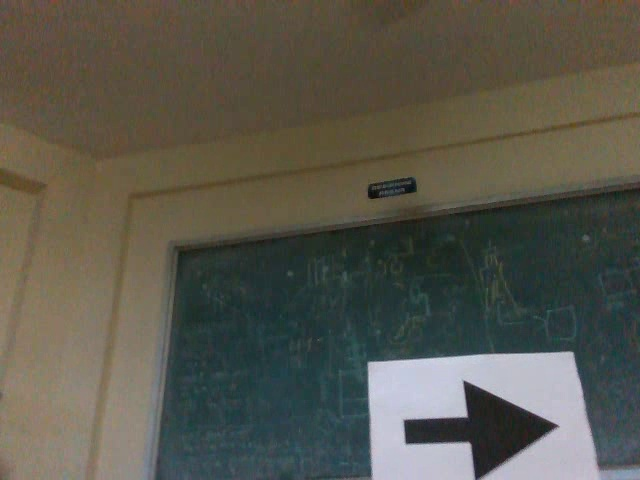Right: (398, 370, 563, 480)
